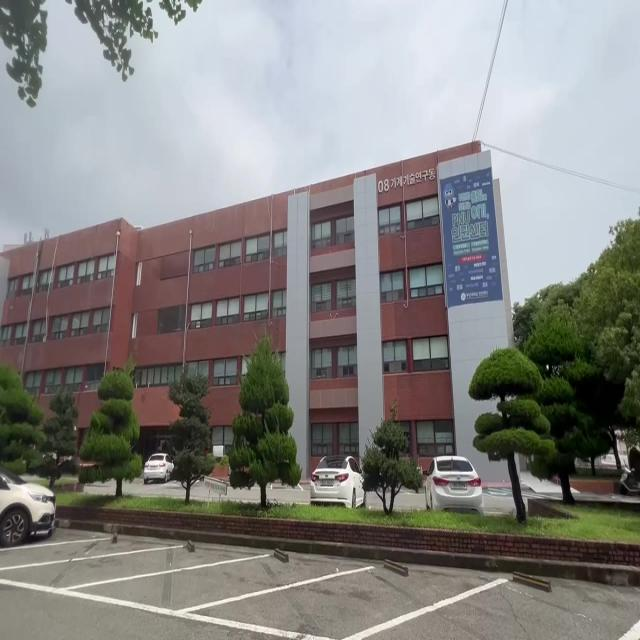building: (77, 171, 447, 378)
